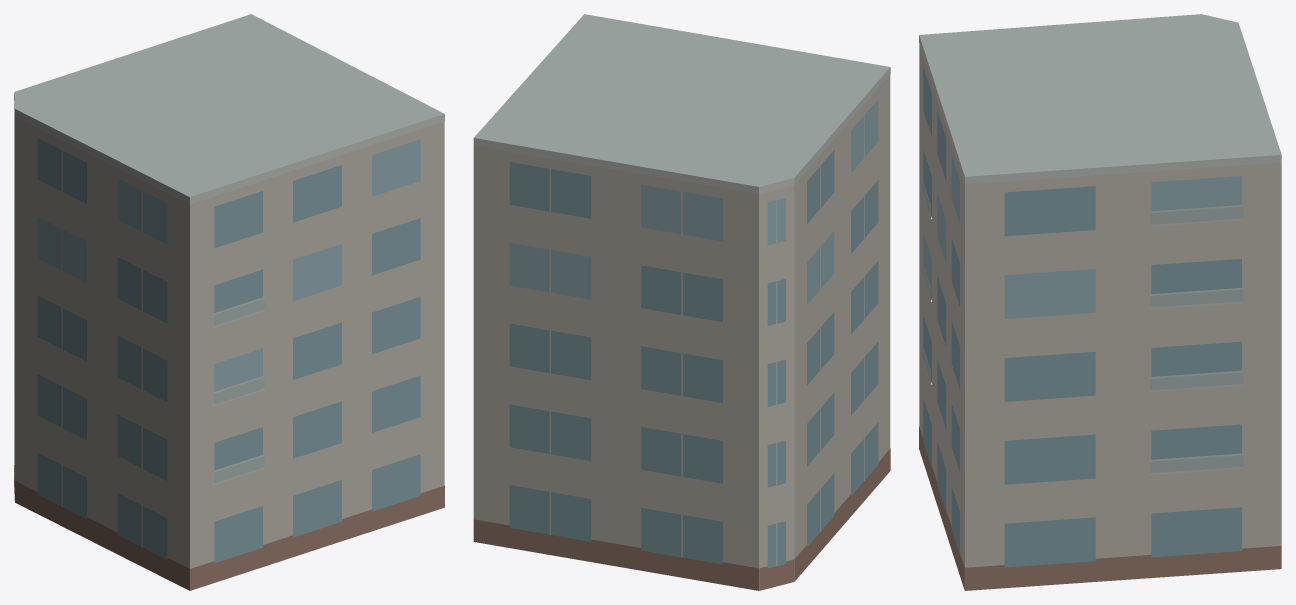
Rendered from survey-upis-32576323.glb.
The picture shows the model from 3 angles, left to right: view 1: azimuth 30°, elevation 25°; view 2: azimuth 150°, elevation 25°; view 3: azimuth 270°, elevation 25°; orthographic projection. The views are drawn at different scales.
Parts seen in each view (by area): view 1: survey-upis-32576323.tmp; view 2: survey-upis-32576323.tmp; view 3: survey-upis-32576323.tmp.
Part boxes in pixels (box(x1,y1,x2,y2)): survey-upis-32576323.tmp: box(14, 14, 444, 590); survey-upis-32576323.tmp: box(473, 14, 890, 590); survey-upis-32576323.tmp: box(919, 14, 1281, 590).
Bounding box in the file's own units: 11.14 × 13.2 × 10.49.
